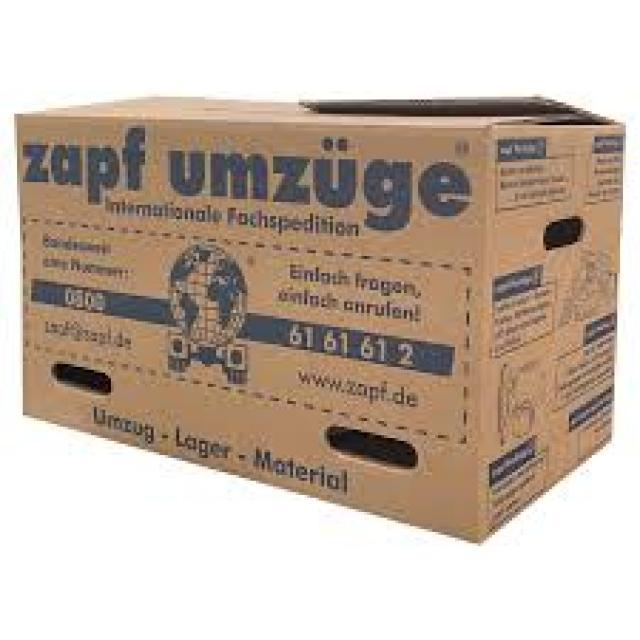Cardboard: (18, 92, 628, 549)
